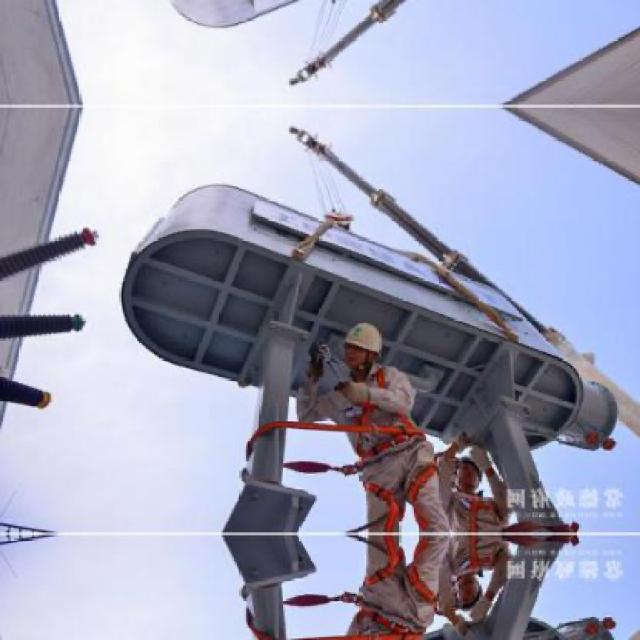helmet: (340, 318, 385, 374), (449, 575, 489, 617), (449, 451, 489, 492)
